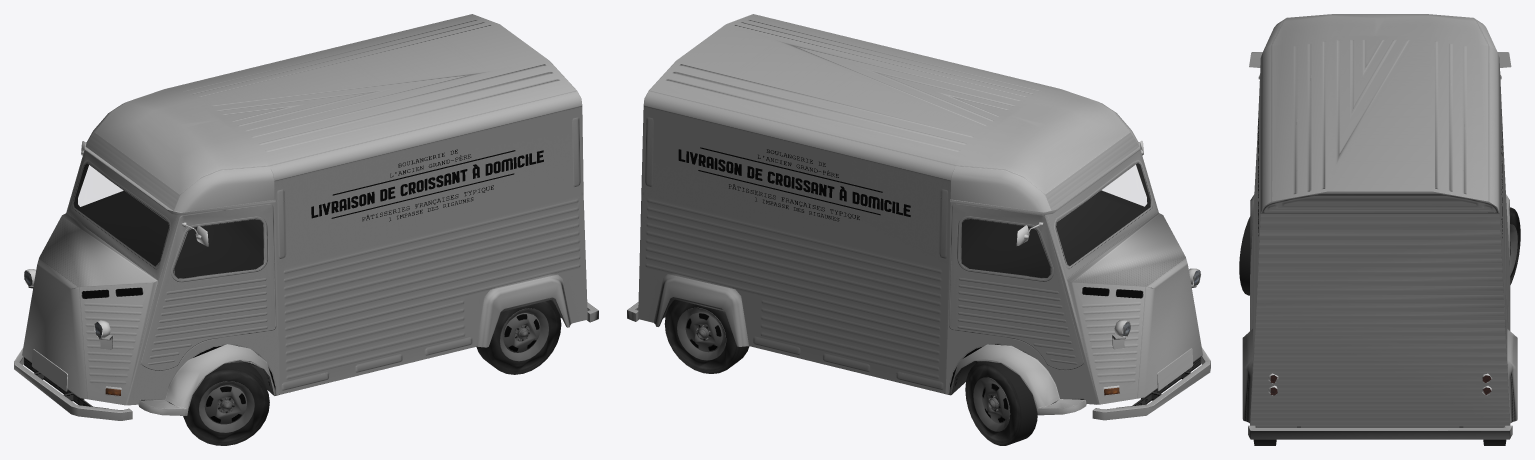
Rendered from van-entrega.glb.
3 views of the same model, side by side, from view 1: azimuth 30°, elevation 25°; view 2: azimuth 150°, elevation 25°; view 3: azimuth 270°, elevation 25° (orthographic). The views are drawn at different scales.
Parts seen in each view (by area): view 1: body_body_0, glass_glass_0, void_void_0, decals_Material #362_0, wheel_01_tire_0, wheel_01_rims_0, wheel_02_tire_0, wheel_02_rims_0, bumpers_body_0, bottom_Material #361_0, chrome_chrome_0; view 2: body_body_0, glass_glass_0, void_void_0, decals_Material #362_0, wheel_003_tire_0, wheel_004_tire_0, wheel_004_rims_0, bumpers_body_0, wheel_003_rims_0, bottom_Material #361_0, chrome_chrome_0; view 3: body_body_0, bumpers_body_0, wheel_01_tire_0, chrome_chrome_0, wheel_003_tire_0, wheel_003_rims_0.
Boxes of the visible parts, x1=… form: body_body_0: x1=22, y1=14, x2=587, y2=415; glass_glass_0: x1=74, y1=164, x2=264, y2=278; void_void_0: x1=73, y1=163, x2=263, y2=278; decals_Material #362_0: x1=311, y1=149, x2=543, y2=221; wheel_01_tire_0: x1=183, y1=362, x2=269, y2=445; wheel_01_rims_0: x1=199, y1=381, x2=254, y2=432; wheel_02_tire_0: x1=476, y1=300, x2=561, y2=374; wheel_02_rims_0: x1=499, y1=308, x2=548, y2=361; bumpers_body_0: x1=14, y1=302, x2=598, y2=420; bottom_Material #361_0: x1=24, y1=297, x2=570, y2=413; chrome_chrome_0: x1=24, y1=141, x2=208, y2=396; body_body_0: x1=638, y1=14, x2=1202, y2=415; glass_glass_0: x1=961, y1=164, x2=1150, y2=278; void_void_0: x1=961, y1=163, x2=1150, y2=277; decals_Material #362_0: x1=678, y1=147, x2=910, y2=221; wheel_003_tire_0: x1=965, y1=361, x2=1037, y2=445; wheel_004_tire_0: x1=664, y1=299, x2=749, y2=373; wheel_004_rims_0: x1=677, y1=307, x2=726, y2=360; bumpers_body_0: x1=627, y1=302, x2=1210, y2=420; wheel_003_rims_0: x1=973, y1=377, x2=1010, y2=431; bottom_Material #361_0: x1=654, y1=297, x2=1202, y2=413; chrome_chrome_0: x1=1016, y1=140, x2=1200, y2=396; body_body_0: x1=1242, y1=14, x2=1517, y2=427; bumpers_body_0: x1=1248, y1=425, x2=1512, y2=439; wheel_01_tire_0: x1=1239, y1=216, x2=1250, y2=295; chrome_chrome_0: x1=1249, y1=52, x2=1511, y2=395; wheel_003_tire_0: x1=1510, y1=207, x2=1520, y2=284; wheel_003_rims_0: x1=1510, y1=224, x2=1517, y2=275.
Bounding box in the file's own units: 165 × 86.78 × 78.6.
9 materials, 6 textured.
